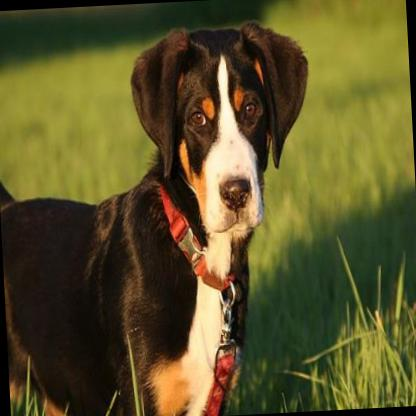Greater_Swiss_Mountain_dog: (0, 16, 324, 416)
